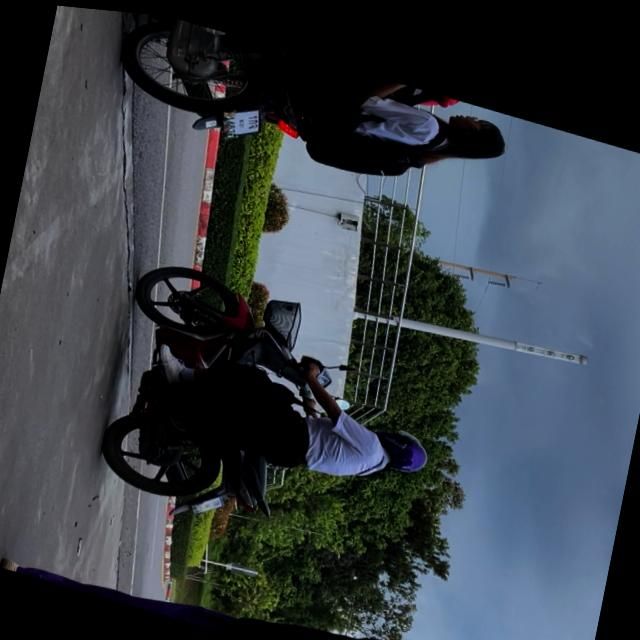no-seatbelt: (367, 413, 432, 472)
seatbelt: (438, 98, 511, 161)
